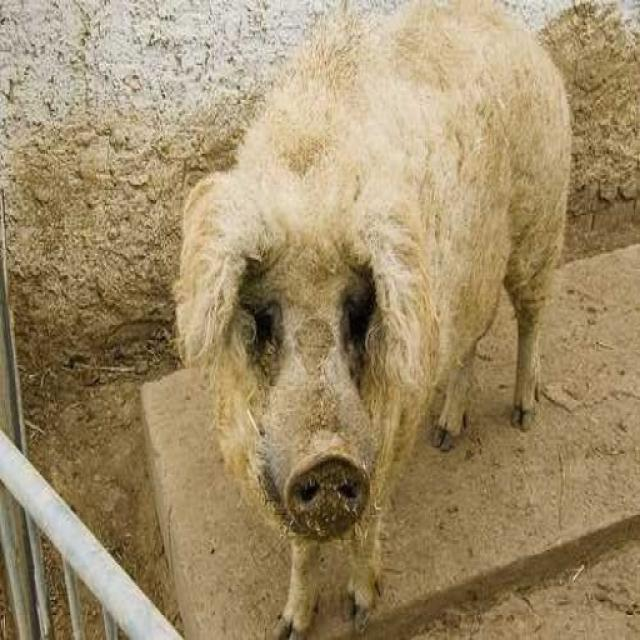pig: (113, 0, 640, 573)
